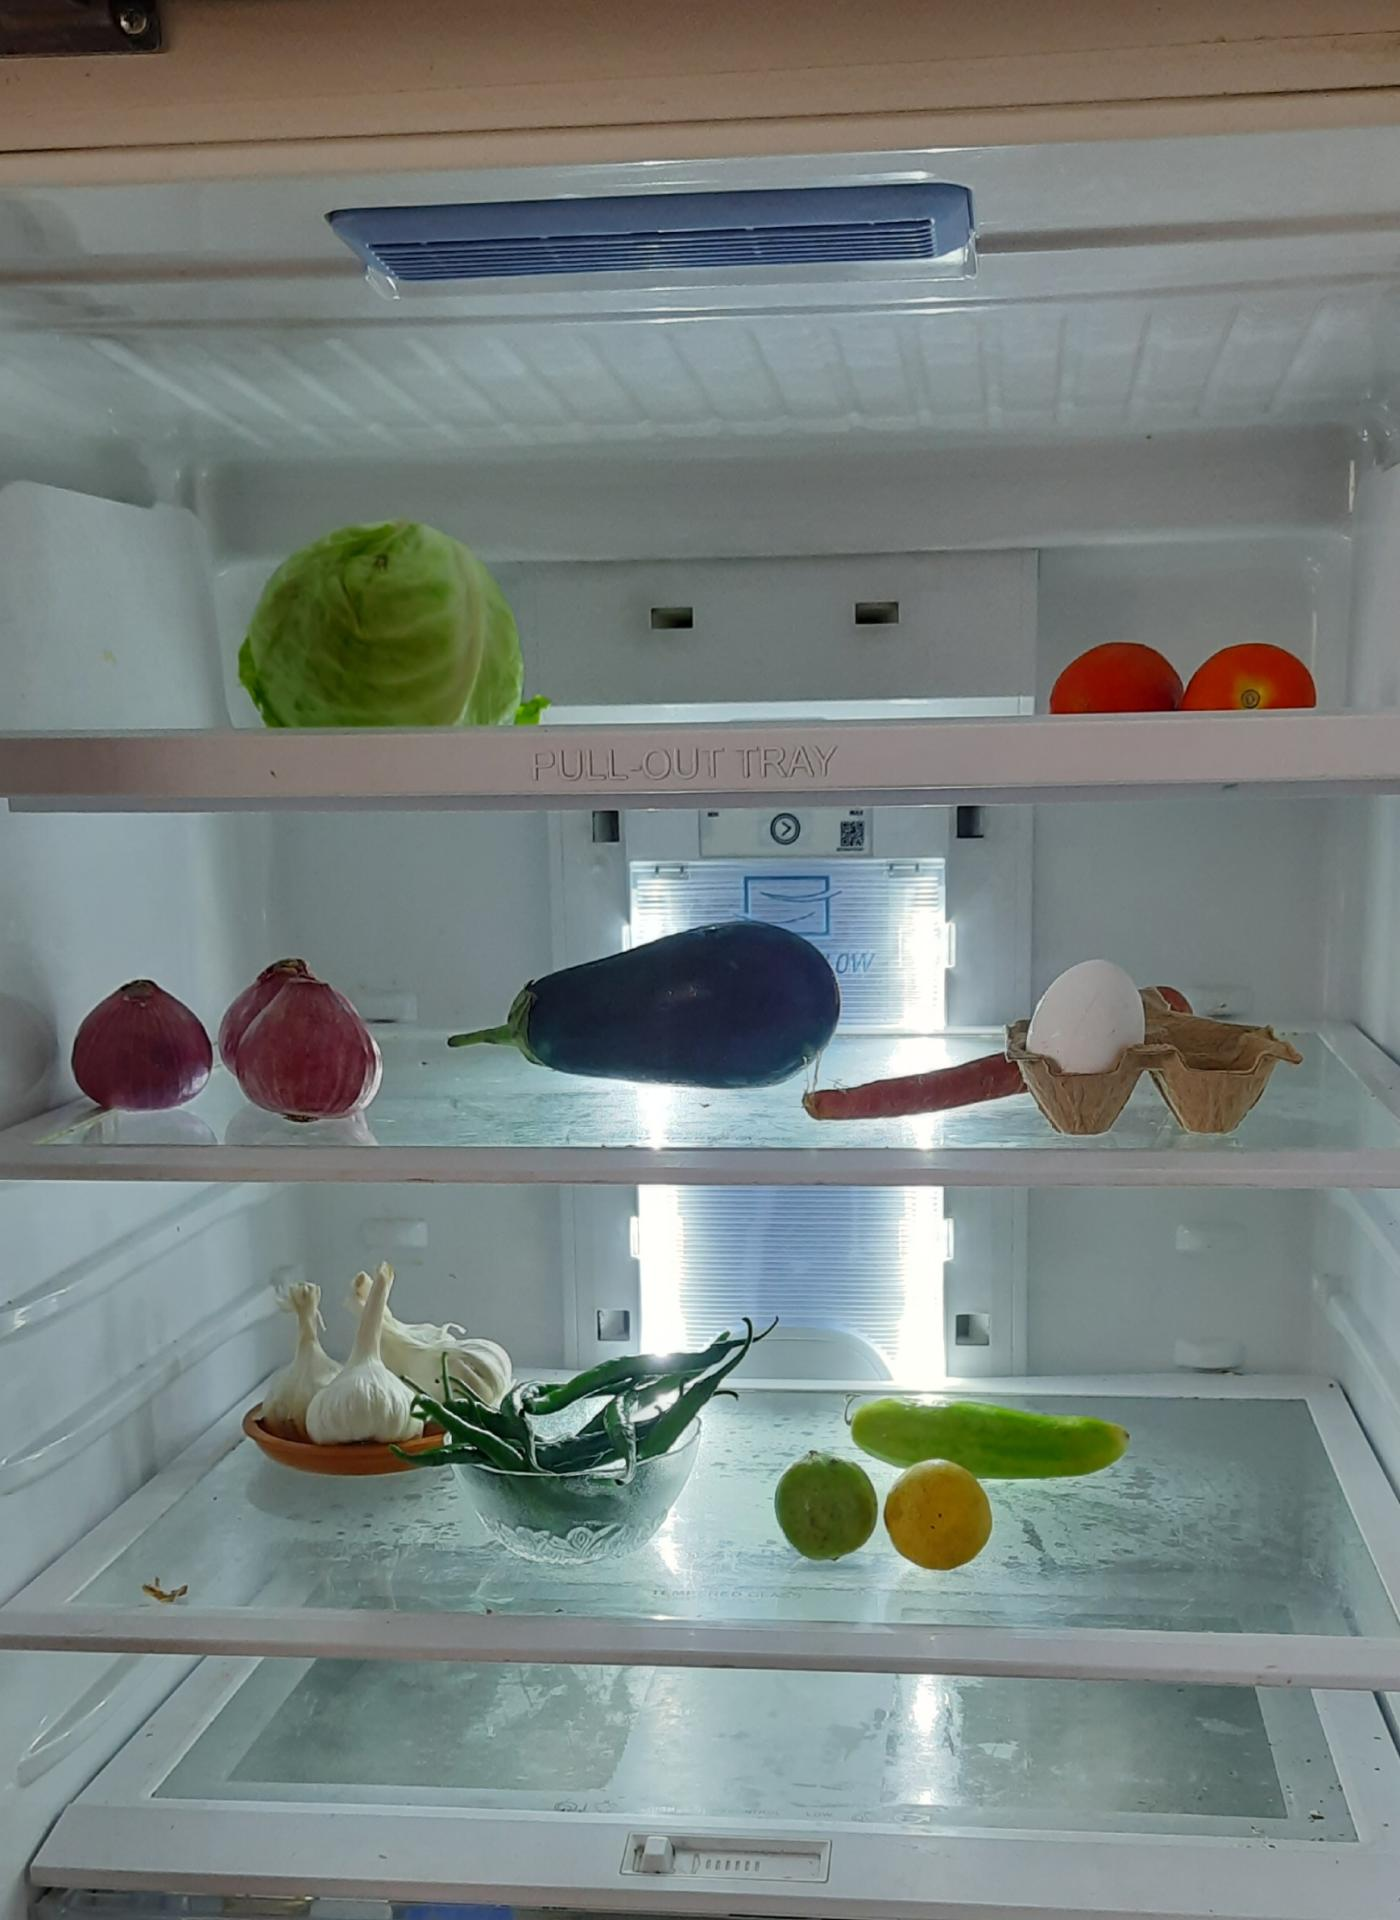brinjal: (443, 923, 848, 1081)
cabbage: (230, 513, 528, 727)
carrots: (799, 1032, 1039, 1127)
chillies: (374, 1354, 750, 1544)
cucumber: (841, 1400, 1136, 1492)
egg: (1015, 957, 1285, 1169)
garlic: (259, 1255, 516, 1455)
lemon: (771, 1439, 883, 1565), (880, 1458, 999, 1574)
onion: (73, 957, 383, 1131)
tomato: (1045, 626, 1319, 714)
